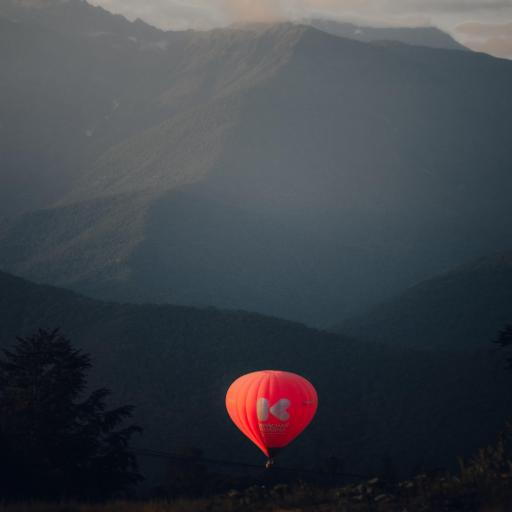hot air ballon: (225, 370, 318, 469)
